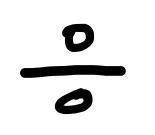div: (20, 24, 126, 114)
